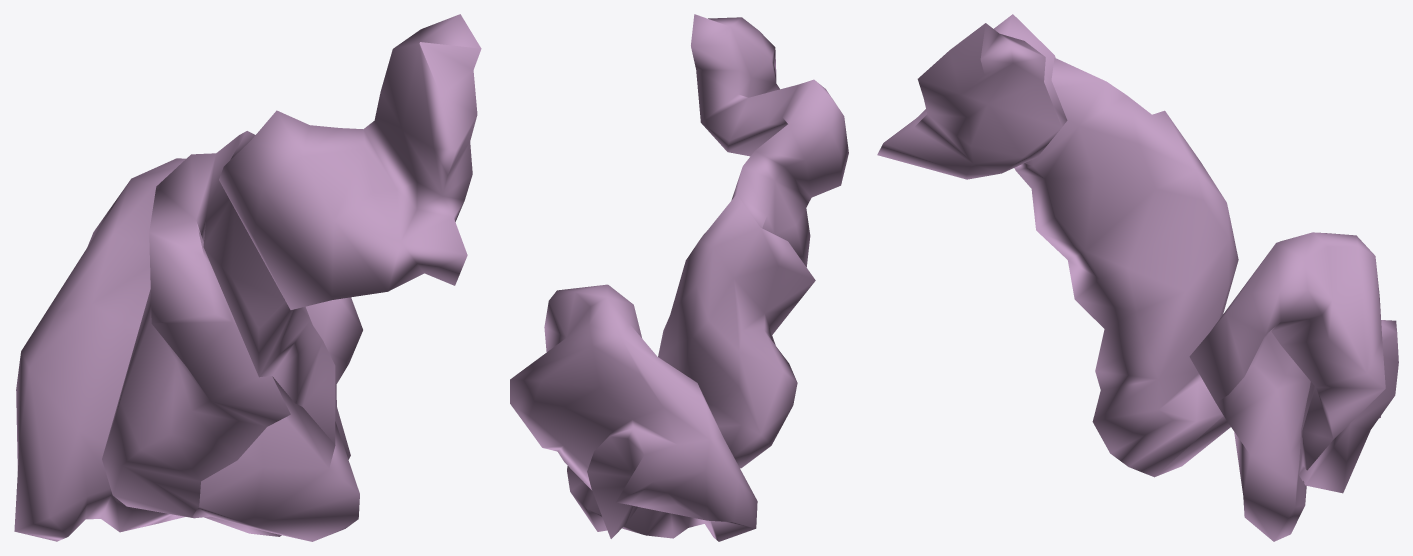
3 renders of one model, left to right at view 1: azimuth 30°, elevation 25°; view 2: azimuth 150°, elevation 25°; view 3: azimuth 270°, elevation 25°, orthographic. The views are drawn at different scales.
Parts seen in each view (by area): view 1: 左侧中央旁沟; view 2: 左侧中央旁沟; view 3: 左侧中央旁沟.
Part boxes in pixels (bbox=[...]): 左侧中央旁沟: bbox=[14, 14, 481, 541]; 左侧中央旁沟: bbox=[510, 14, 848, 541]; 左侧中央旁沟: bbox=[877, 14, 1398, 541].
Bounding box in the file's own units: 0.0279 × 0.0534 × 0.05.
